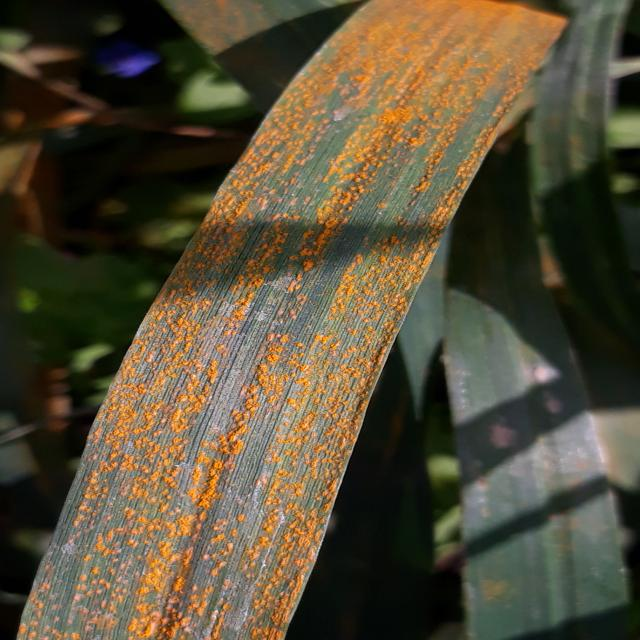yellow_rust: (13, 0, 628, 635)
